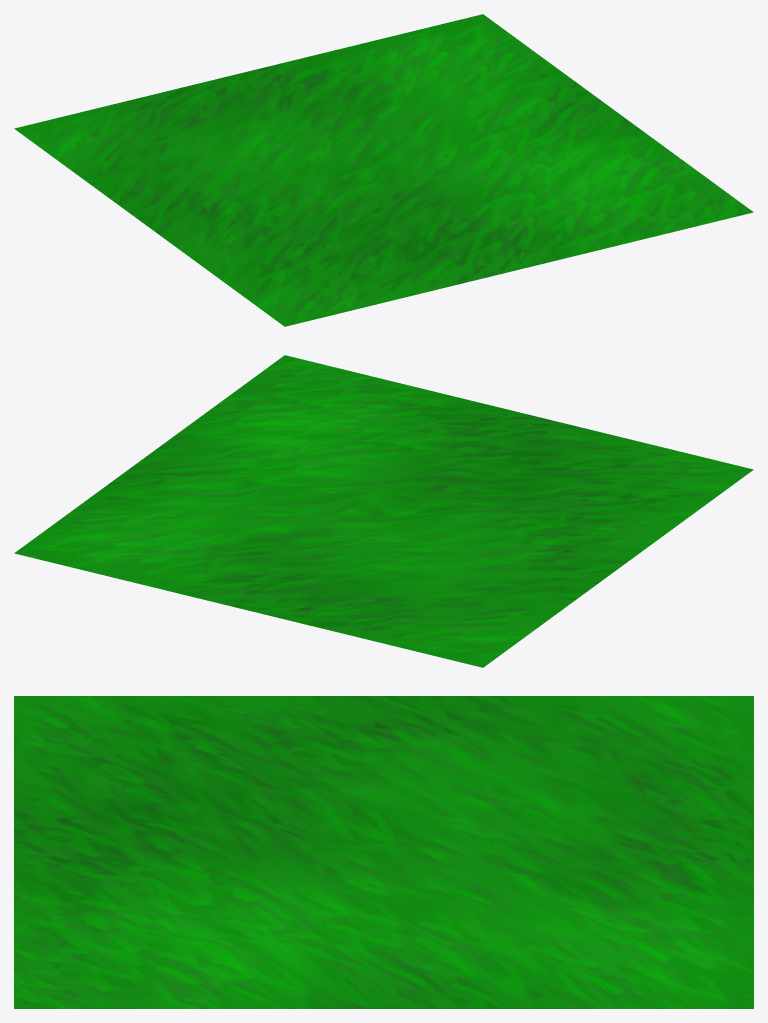
File: ground.fbx
3 views of the same model, one above another, from view 1: azimuth 30°, elevation 25°; view 2: azimuth 150°, elevation 25°; view 3: azimuth 270°, elevation 25° (orthographic). The views are drawn at different scales.
Parts seen in each view (by area): view 1: Plane; view 2: Plane; view 3: Plane.
Boxes of the visible parts, left/top/right/bottom form: Plane: left=14, top=14, right=753, bottom=326; Plane: left=14, top=355, right=753, bottom=667; Plane: left=14, top=696, right=753, bottom=1008.
Bounding box in the file's own units: 512 × 13.18 × 512.
